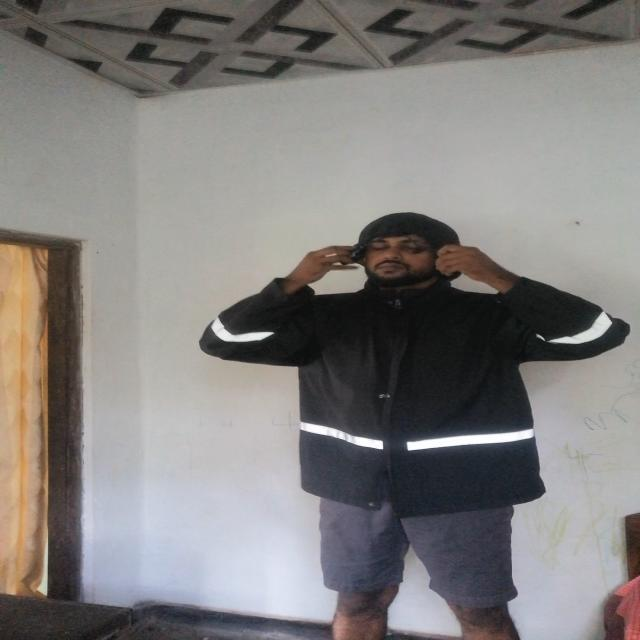Jacket_Wearer: (216, 274, 604, 504)
